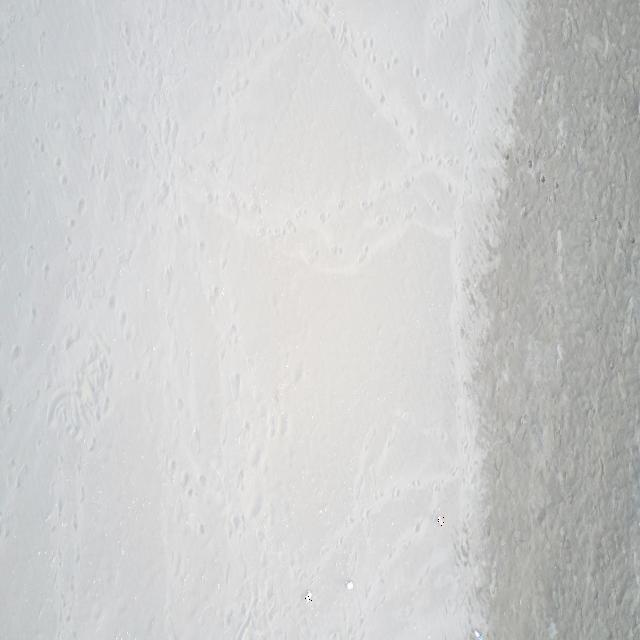tin-and-aluminum-cans: (305, 590, 313, 603), (346, 580, 354, 592), (436, 516, 444, 526), (474, 630, 482, 639)
